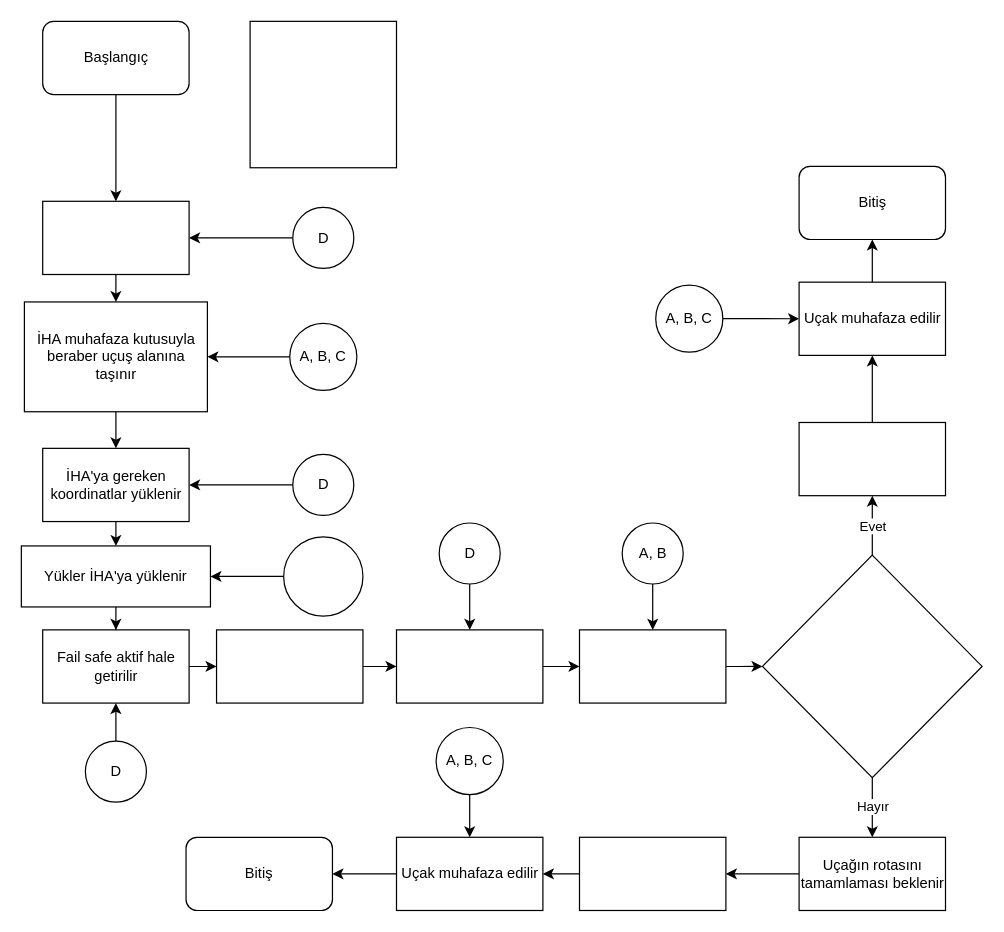
Image size: 1004x932. Some labels were removed from this diagram. The centre of each missing label's shape, as x and y in pixels:
"A, B, C, D" goes at (322,576).
"İHA'nın son kontrolü yapılır" goes at (289,666).
"Radyo ve bilgisayar istasyonuna geçilir" goes at (115,237).
"Uçak fail safe moduna alınıp güvenli bir şekilde inişi gerçekleştirilir" goes at (872,458).
"Uçak iniş yapmaya başlar" goes at (652,873).
"Uçak tam otomatik kalkış yapacak şekilde başlatılır" goes at (469,666).
"Uçuş alanına girecek kişiler: A: B: C: D:" goes at (322,94).
"Uçuş kalkış için desteklenir" goes at (652,666).
"Uçuş sırasında hata çıktı mı?" goes at (871,666).
